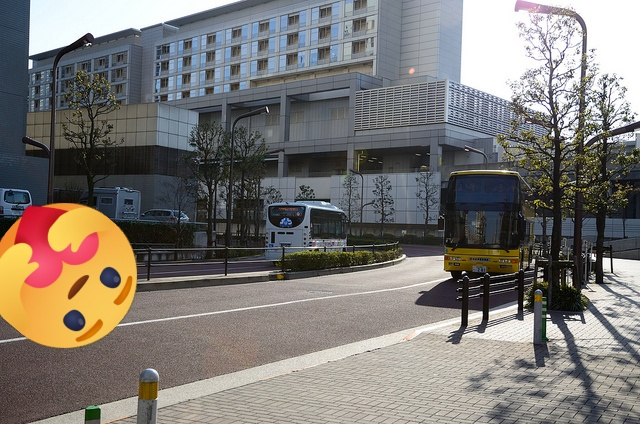care: (0, 203, 137, 348)
